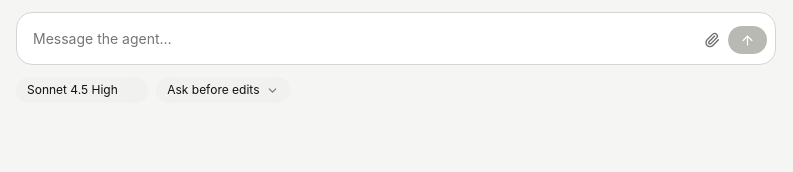
it: Composer send mode › hands the draft back when the gateway refuses the message
Click the text box labelled "Message the agent…" at point(362, 38), box [33, 21, 690, 56]
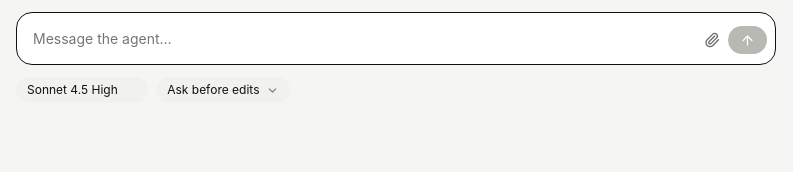
Type keys "keep me"
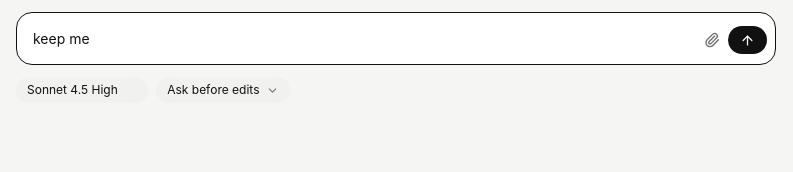
Click the button named "Send" at point(748, 40), box [728, 26, 767, 54]
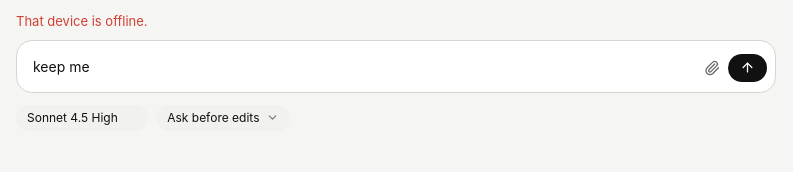
Expected: the text box named "Message the agent…" holds "keep me", [33, 48, 690, 84]
Expected: the text "That device is offline." is shown, [16, 13, 148, 29]
